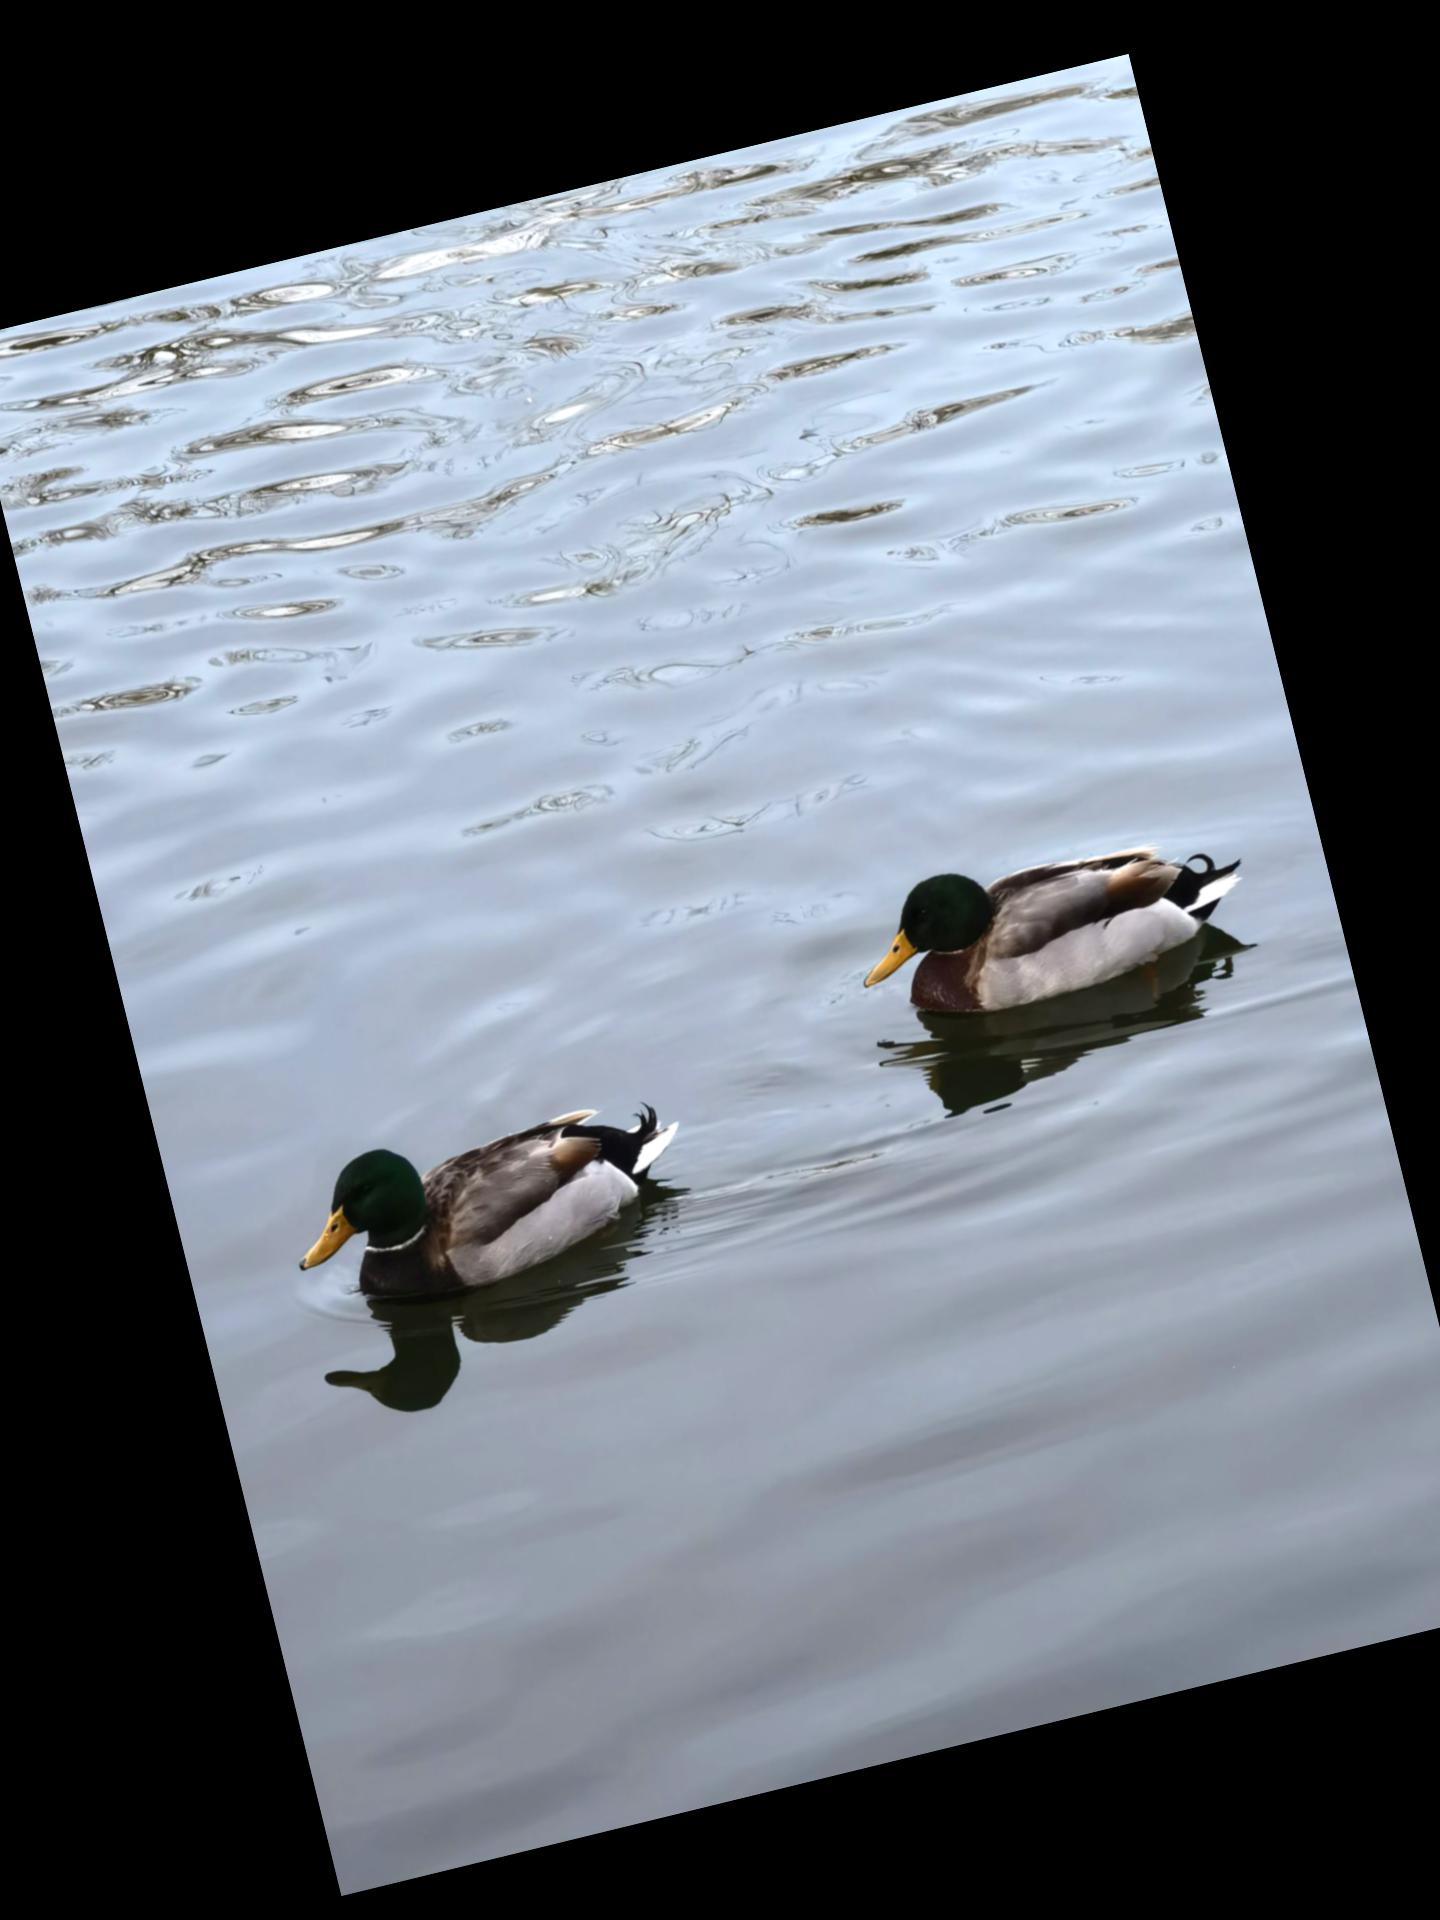duck: (829, 773, 1301, 1107), (253, 1043, 735, 1336)
